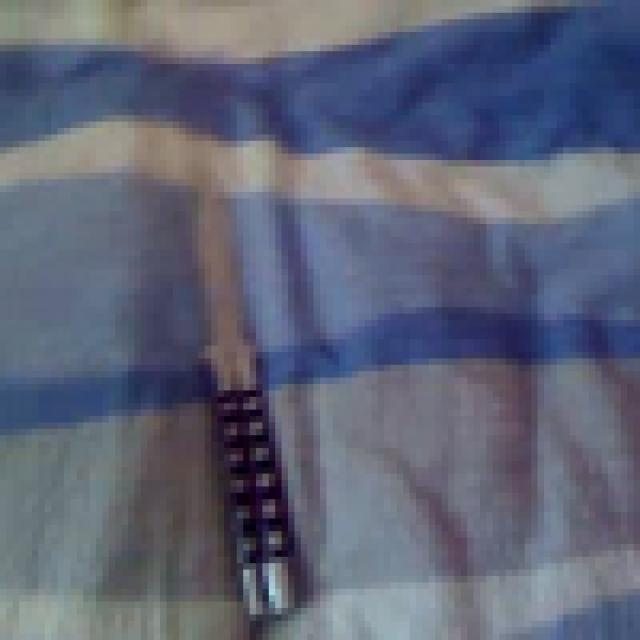Knife: (154, 141, 326, 627)
